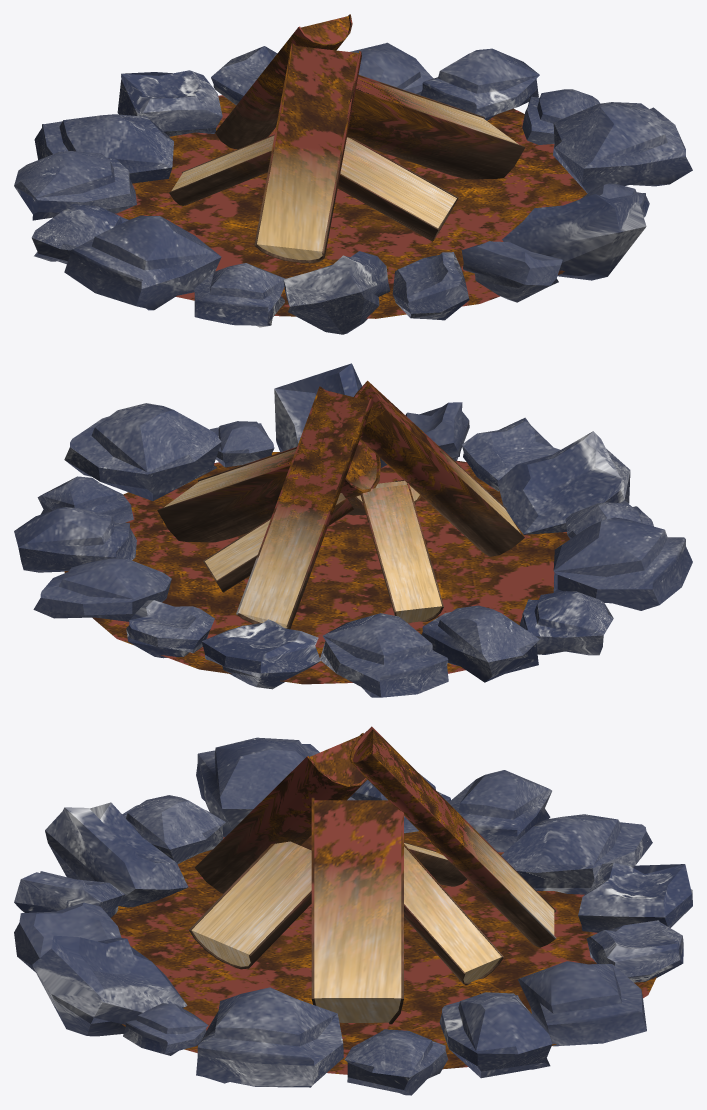
Rendered from pit.fbx.
The picture shows the model from 3 angles, top to bottom: view 1: azimuth 30°, elevation 25°; view 2: azimuth 150°, elevation 25°; view 3: azimuth 270°, elevation 25°; orthographic projection. The views are drawn at different scales.
Visible parts, largest first — view 1: pit; view 2: pit; view 3: pit.
Boxes of the visible parts, <box> form: pit: <box>14,14,692,334</box>; pit: <box>14,363,692,697</box>; pit: <box>14,726,692,1095</box>.
Bounding box in the file's own units: 179 × 57.71 × 160.
Materials: 1 (1 with a texture image).
